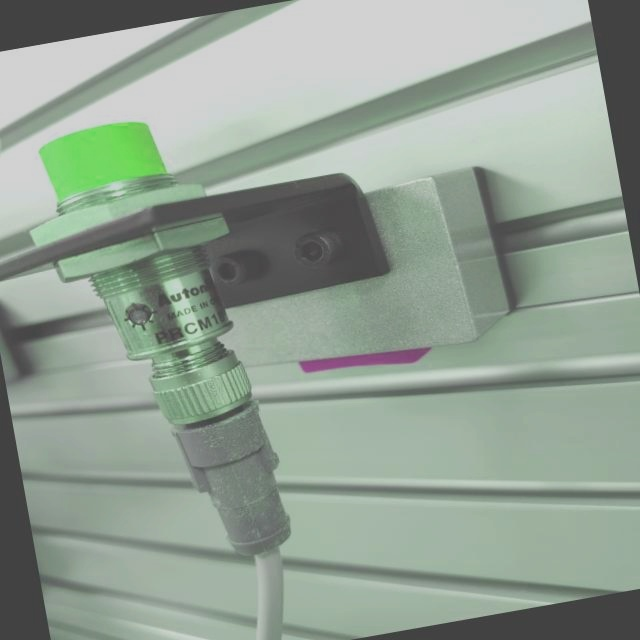inductive sensor: (0, 53, 559, 605)
